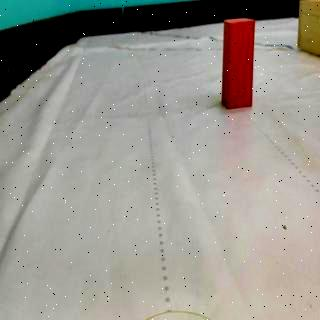redbox: (221, 18, 257, 107)
